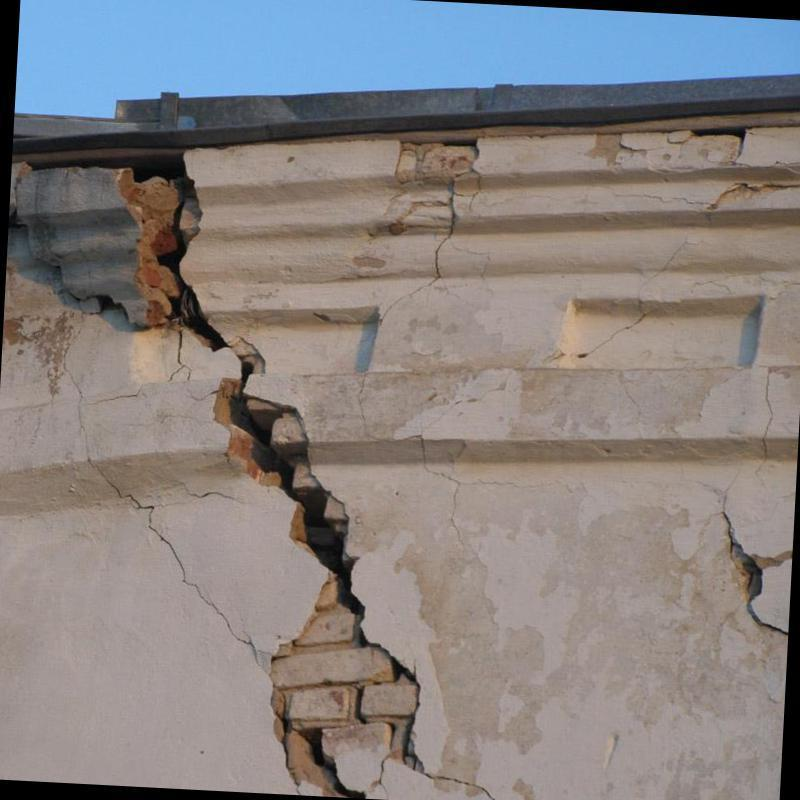crack: (62, 303, 259, 665), (25, 150, 228, 352), (232, 362, 366, 619), (358, 372, 466, 549), (577, 240, 689, 359), (377, 193, 457, 329), (356, 623, 420, 769), (273, 692, 303, 794), (354, 686, 398, 751), (63, 286, 131, 323), (754, 367, 774, 487), (422, 772, 497, 800), (168, 478, 240, 504), (83, 384, 145, 407), (451, 149, 480, 198), (327, 761, 365, 798), (168, 329, 193, 383), (290, 727, 324, 765), (720, 495, 737, 559), (9, 172, 28, 229), (692, 128, 747, 142), (468, 169, 483, 220), (378, 755, 391, 799), (190, 388, 233, 401), (763, 621, 789, 637), (443, 139, 478, 149), (745, 569, 754, 593)
